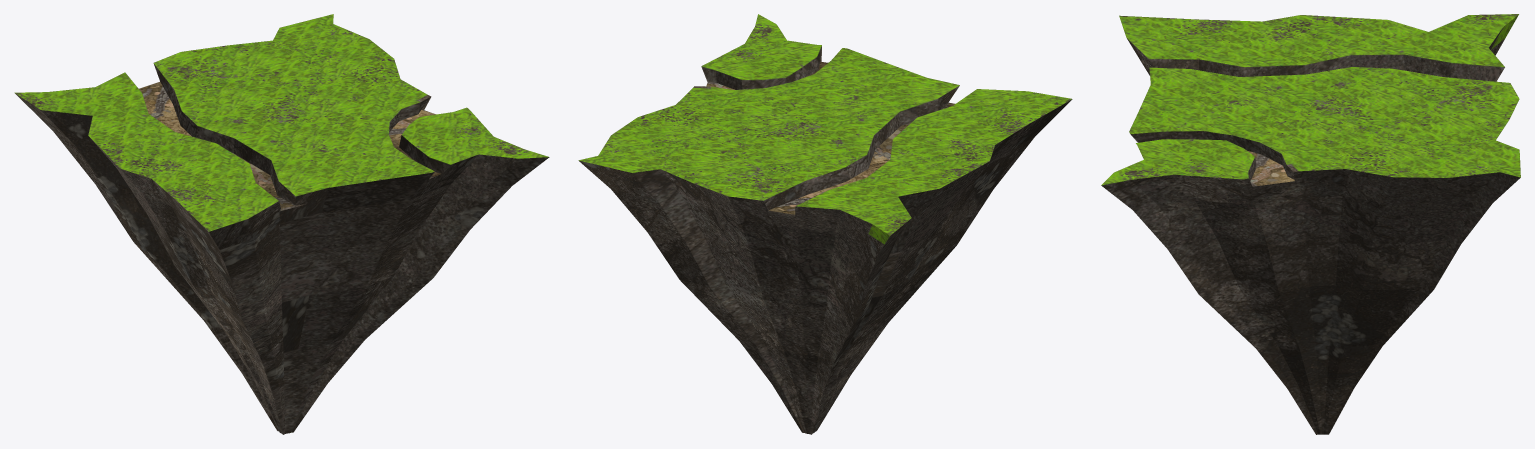
Rendered from island-b.glb.
The picture shows the model from 3 angles, left to right: view 1: azimuth 30°, elevation 25°; view 2: azimuth 150°, elevation 25°; view 3: azimuth 270°, elevation 25°; orthographic projection. The views are drawn at different scales.
Visible parts, largest first — view 1: Island; view 2: Island; view 3: Island.
Part boxes in pixels (<box>): Island: <box>14,14,549,434</box>; Island: <box>578,14,1072,434</box>; Island: <box>1101,14,1520,434</box>.
Bounding box in the file's own units: 217 × 194 × 225.
Materials: 1 (1 with a texture image).
